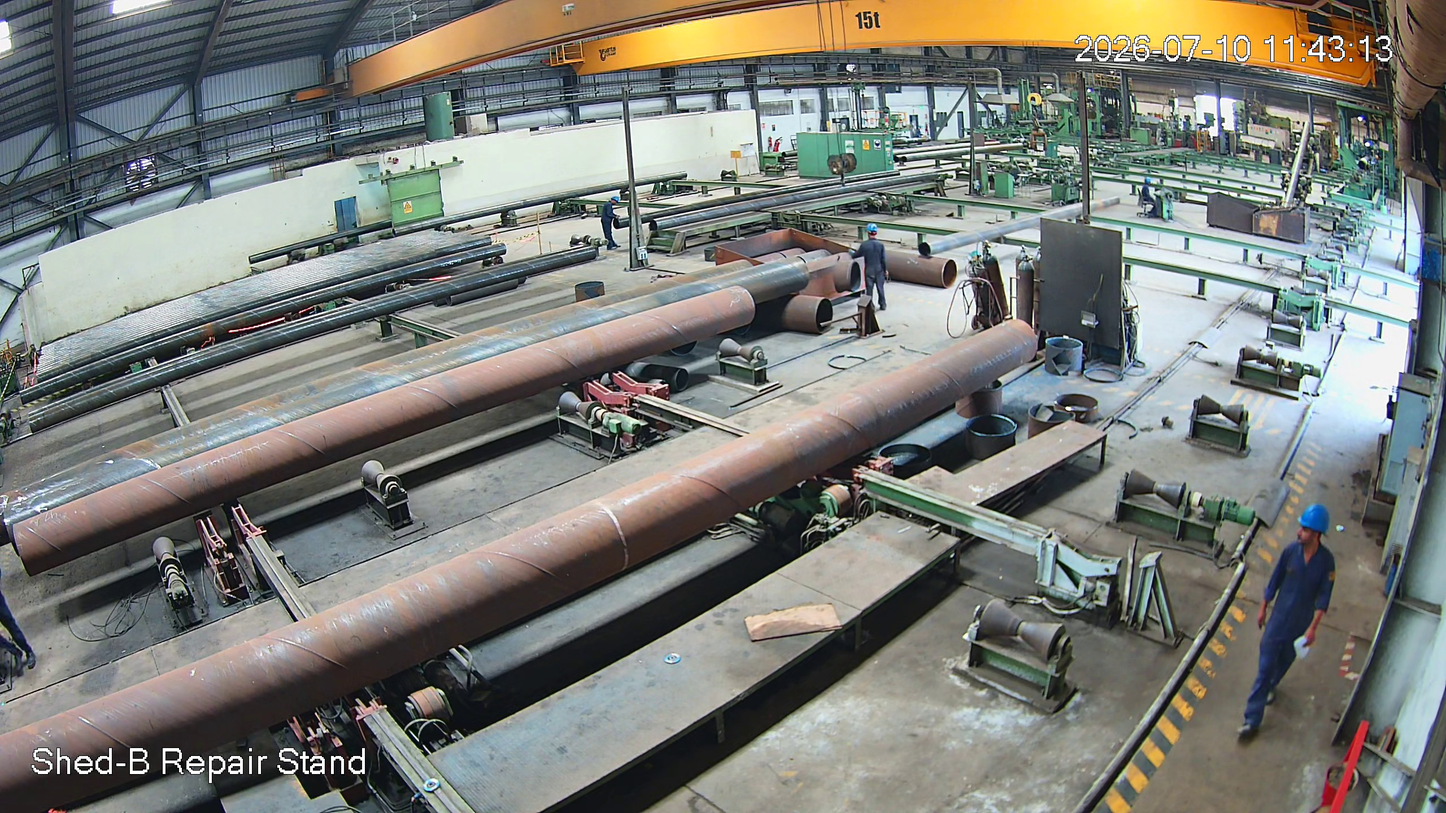Helmet: (1284, 496, 1334, 580), (863, 219, 881, 248), (1140, 172, 1152, 194)
Person: (1231, 504, 1350, 759), (852, 223, 894, 312), (1134, 173, 1159, 218)
